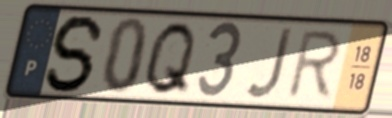0: (97, 14, 152, 97)
3: (195, 17, 245, 104)
J: (243, 25, 297, 102)
Q: (140, 18, 200, 99)
R: (283, 29, 346, 102)
S: (43, 12, 108, 95)
